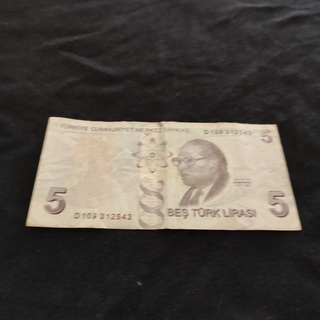5TLBack: (24, 114, 303, 232)
